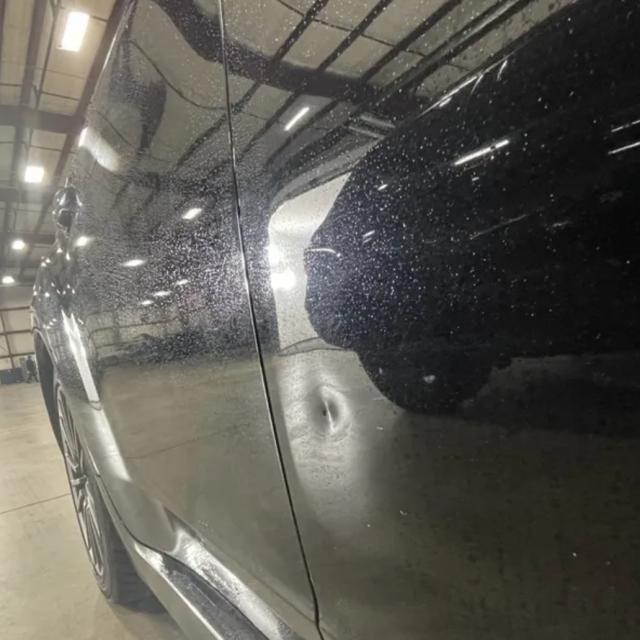dents: (289, 379, 395, 472)
